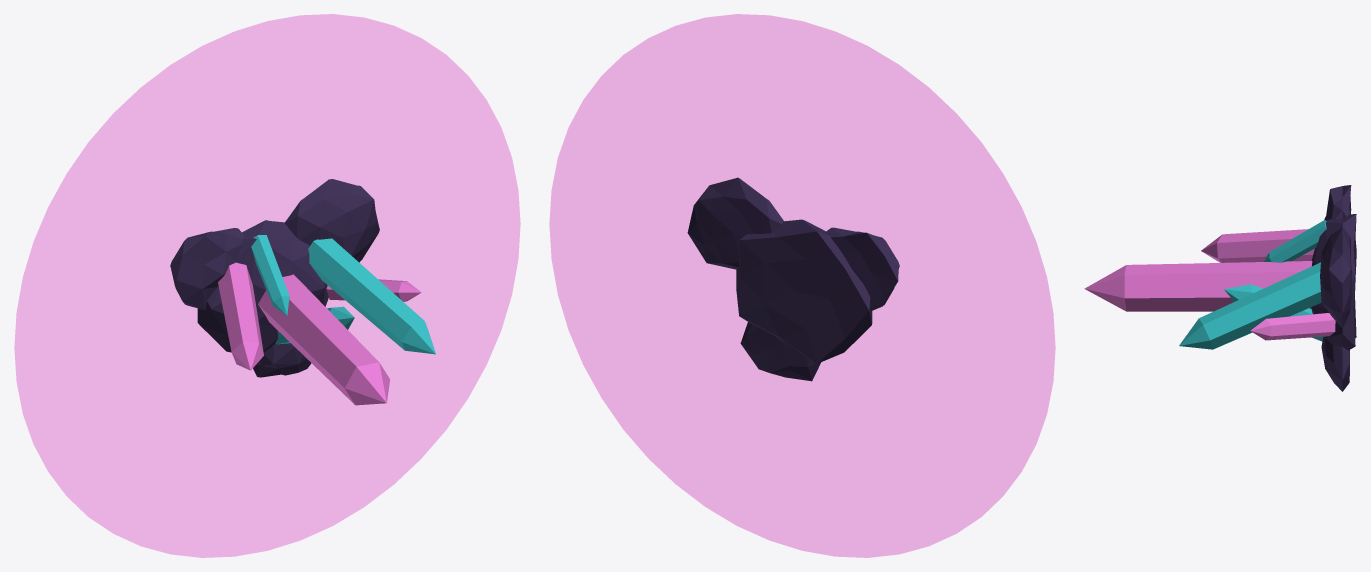
The model's file is cristaux.glb.
3 renders of one model, left to right at view 1: azimuth 30°, elevation 25°; view 2: azimuth 150°, elevation 25°; view 3: azimuth 270°, elevation 25°, orthographic. The views are drawn at different scales.
Visible parts, largest first — view 1: lueur, cristal0, cristal1, socle0, socle1, socle2, cristal2, cristal5, socle3, cristal4; view 2: lueur, socle0, socle1, socle2, socle3; view 3: cristal0, cristal1, socle1, cristal2, socle0, cristal4, cristal5, socle3, socle2, cristal3.
Boxes of the visible parts, box(x1,y1,x2,y2) form: lueur: box(14, 14, 520, 557); cristal0: box(258, 274, 389, 405); cristal1: box(308, 238, 435, 354); socle0: box(197, 220, 328, 352); socle1: box(285, 179, 379, 262); socle2: box(170, 228, 244, 309); cristal2: box(218, 262, 263, 370); cristal5: box(251, 235, 289, 315); socle3: box(253, 343, 311, 377); cristal4: box(326, 279, 421, 301); lueur: box(549, 14, 1055, 557); socle0: box(736, 219, 872, 363); socle1: box(687, 177, 783, 269); socle2: box(825, 227, 899, 310); socle3: box(740, 322, 820, 381); cristal0: box(1084, 261, 1312, 311); cristal1: box(1179, 262, 1321, 349); socle1: box(1320, 227, 1351, 328); cristal2: box(1201, 229, 1314, 262); socle0: box(1311, 214, 1356, 350); cristal4: box(1250, 313, 1335, 340); cristal5: box(1264, 220, 1326, 262); socle3: box(1321, 336, 1349, 391); socle2: box(1324, 185, 1351, 220); cristal3: box(1224, 284, 1323, 341).
Size of the model in its own units: 6.4 by 6.4 by 3.2.
